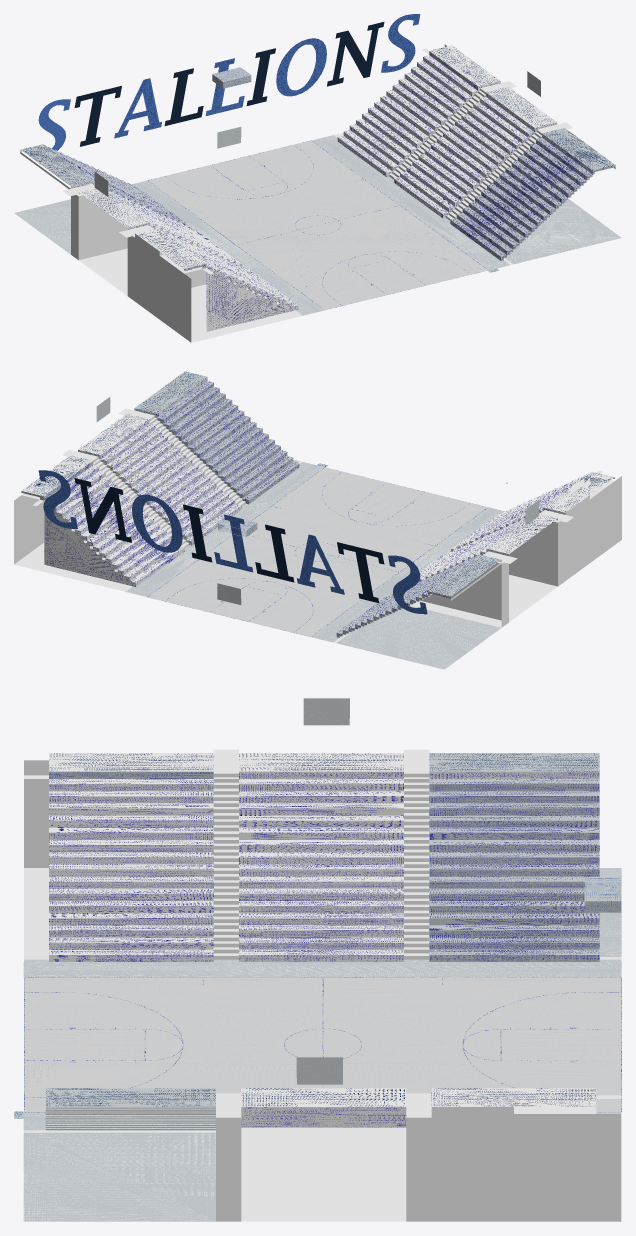
The model's file is Gym_update.dae.
The picture shows the model from 3 angles, top to bottom: view 1: azimuth 30°, elevation 25°; view 2: azimuth 150°, elevation 25°; view 3: azimuth 270°, elevation 25°; orthographic projection. The views are drawn at different scales.
Visible parts, largest first — view 1: SketchUp.001, SketchUp.009, instance_1.011, instance_1.012, SketchUp.013, SketchUp.004, instance_1.006, instance_1.010, instance_1.001, instance_1.009, instance_1.002, instance_1.008 (+18 smaller); view 2: SketchUp.001, instance_1.011, SketchUp.009, instance_1.012, SketchUp.013, instance_1.009, instance_1.010, instance_1.006, instance_1.001, SketchUp.004, instance_1.002, instance_1.008 (+17 smaller); view 3: SketchUp.009, SketchUp.001, instance_1.012, instance_1.011, SketchUp.004, instance_1.009, instance_1.010, instance_1.006, instance_1.002, instance_1.008, instance_1.005, SketchUp.207 (+92 smaller).
Part boxes in pixels (<box>): SketchUp.001: <box>14,180,324,342</box>; SketchUp.009: <box>312,44,621,270</box>; instance_1.011: <box>237,205,487,309</box>; instance_1.012: <box>148,141,398,244</box>; SketchUp.013: <box>338,55,477,176</box>; SketchUp.004: <box>162,230,298,331</box>; instance_1.006: <box>366,251,469,285</box>; instance_1.010: <box>166,165,268,198</box>; instance_1.001: <box>148,140,487,309</box>; instance_1.009: <box>323,258,386,305</box>; instance_1.002: <box>249,145,313,192</box>; instance_1.008: <box>352,259,424,294</box>; SketchUp.001: <box>311,476,621,669</box>; instance_1.011: <box>249,467,487,571</box>; SketchUp.009: <box>14,408,324,596</box>; instance_1.012: <box>148,535,398,636</box>; SketchUp.013: <box>44,465,184,586</box>; instance_1.009: <box>366,492,469,525</box>; instance_1.010: <box>249,584,312,632</box>; instance_1.006: <box>322,472,386,519</box>; instance_1.001: <box>147,467,487,636</box>; SketchUp.004: <box>451,474,586,551</box>; instance_1.002: <box>165,578,267,611</box>; instance_1.008: <box>352,483,424,517</box>; SketchUp.009: <box>23,1093,621,1221</box>; SketchUp.001: <box>23,749,621,977</box>; instance_1.012: <box>323,978,620,1111</box>; instance_1.011: <box>25,978,322,1111</box>; SketchUp.004: <box>49,779,213,954</box>; instance_1.009: <box>25,992,181,1039</box>; instance_1.010: <box>464,992,620,1039</box>; instance_1.006: <box>25,1050,181,1097</box>; instance_1.002: <box>464,1050,620,1095</box>; instance_1.008: <box>25,1029,144,1060</box>; instance_1.005: <box>501,1029,620,1060</box>; SketchUp.207: <box>45,1088,215,1106</box>.
Bounding box in the file's own units: 1649 × 1151 × 361.
